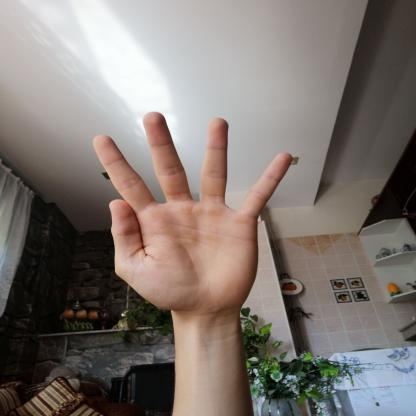SHEEN: (73, 104, 303, 327)
